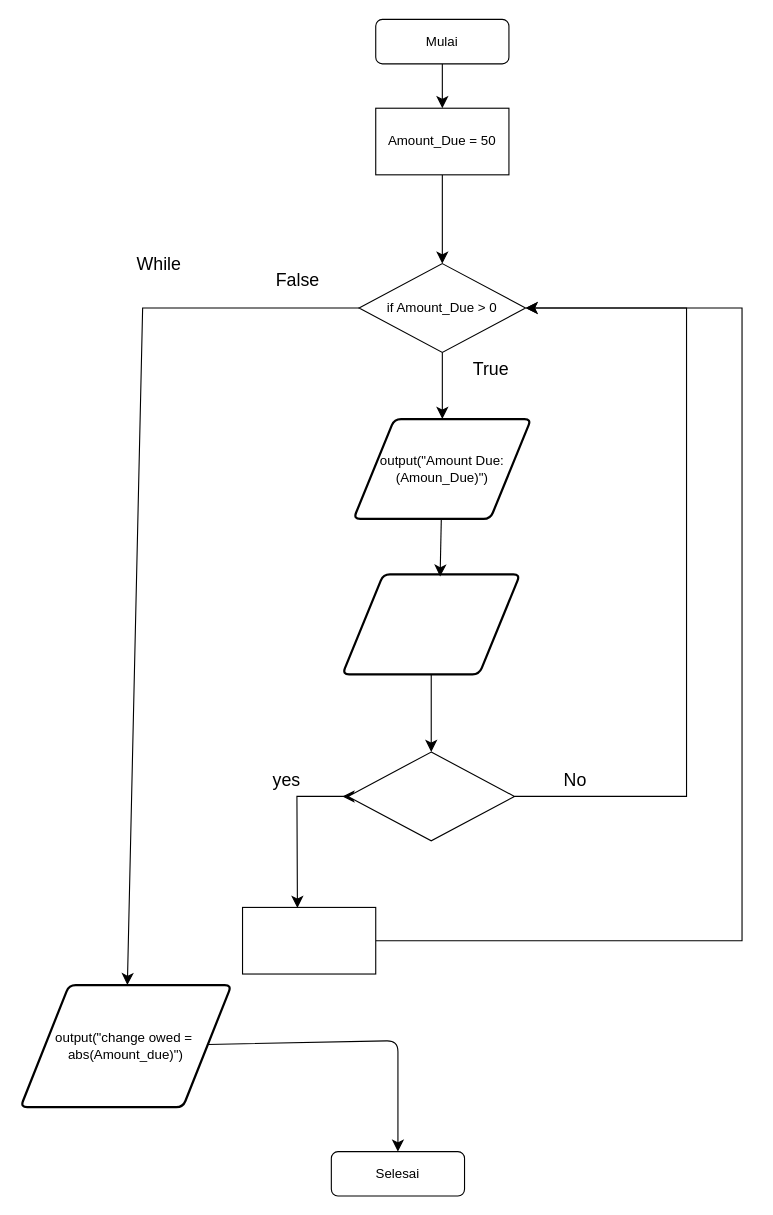
This 773x1215 diagram has some shape labels left out. Each missing label, with the centre of its shape:
"Amount_Due -= coin" goes at (x=308, y=940).
"if coin in [25, 10, 5]:" goes at (x=430, y=796).
"input(Coin)" goes at (x=431, y=624).
